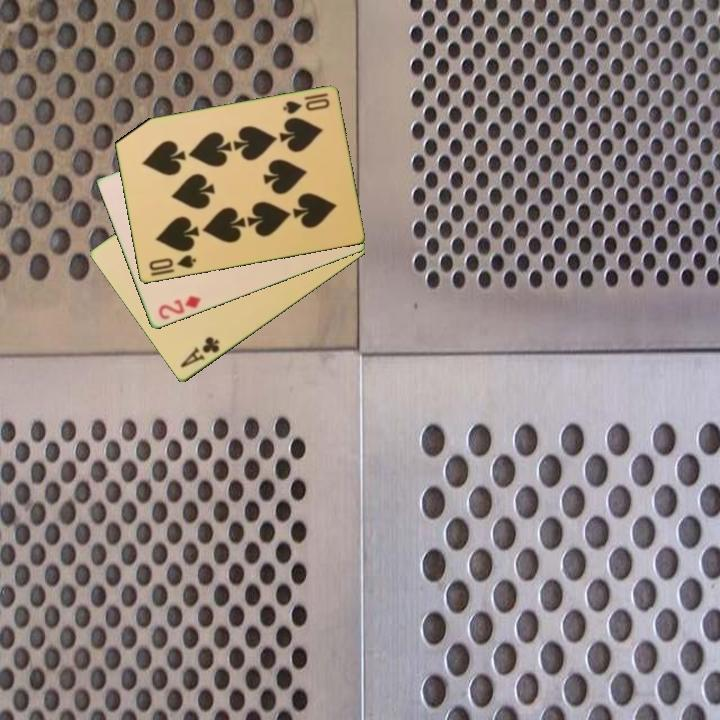10s: (145, 252, 199, 279), (279, 90, 332, 117)
2d: (155, 292, 203, 323)
Ac: (177, 333, 222, 371)
